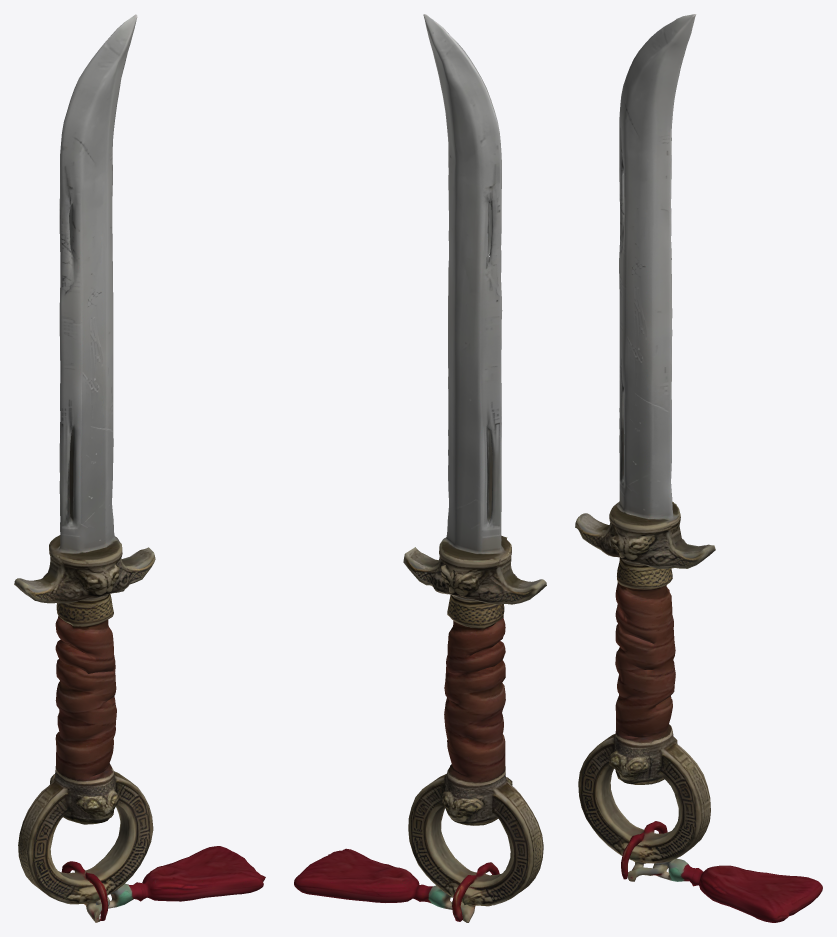
The model's file is onehand_saber.glb.
3 renders of one model, left to right at view 1: azimuth 30°, elevation 25°; view 2: azimuth 150°, elevation 25°; view 3: azimuth 330°, elevation 25°, orthographic. The views are drawn at different scales.
Visible parts, largest first — view 1: tripo_node_809c7d66; view 2: tripo_node_809c7d66; view 3: tripo_node_809c7d66.
Boxes of the visible parts, box(x1,y1,x2,y2) form: tripo_node_809c7d66: box(14, 14, 265, 922); tripo_node_809c7d66: box(294, 14, 546, 922); tripo_node_809c7d66: box(575, 14, 822, 922).
Size of the model in its own units: 27.29 by 99.86 by 9.44.
Materials: 1 (1 with a texture image).
